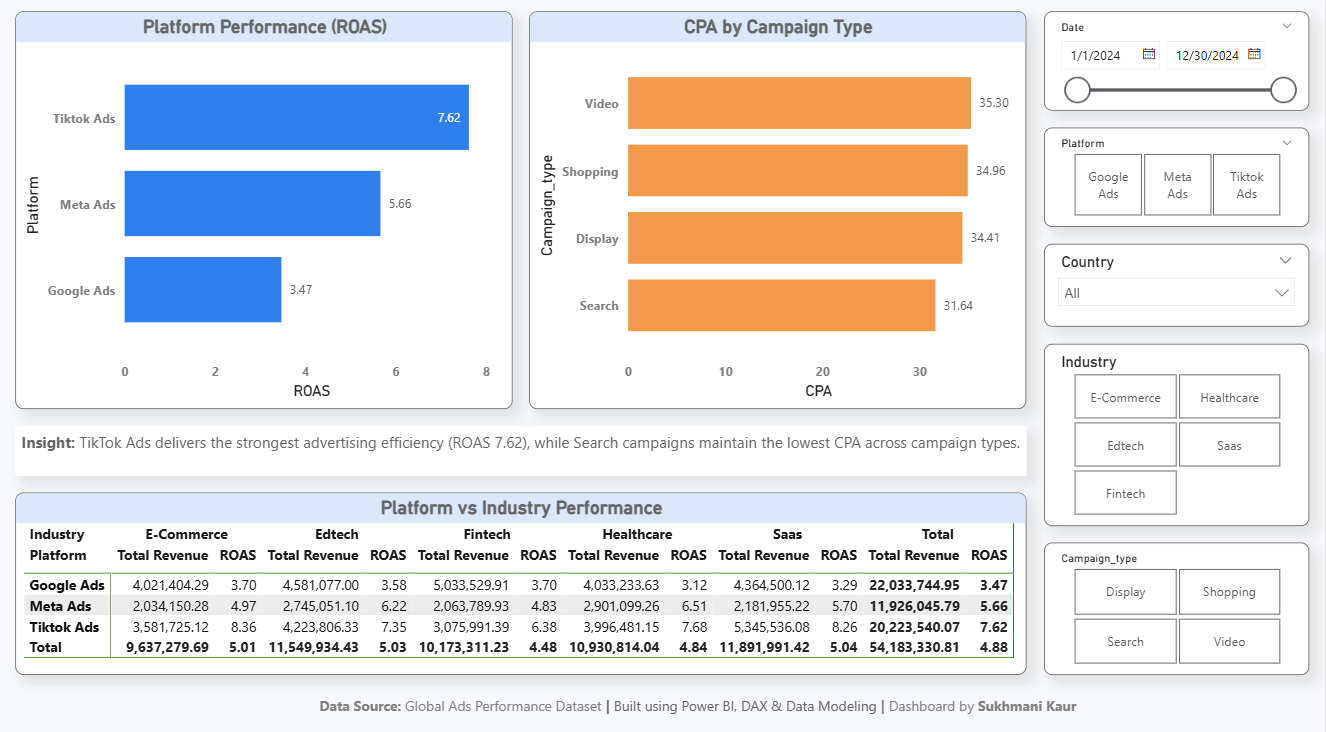

Layout of this report page (visuals, bound fields, positions):
{"tool":"powerbi","page":{"name":"Platform & Campaign Analysis","canvas":[1280,720],"ordinal":1},"visuals":[{"type":"clusteredBarChart","title":"Platform Performance (ROAS)","fields":{"Category":["dim_platform.Platform"],"Y":["Fact_Ads_Performance.ROAS"]},"box":[16,16,480,384],"z":0},{"type":"clusteredBarChart","title":"CPA by Campaign Type","fields":{"Category":["dim_campaign.Campaign_type"],"Y":["Fact_Ads_Performance.CPA_calculated"]},"box":[512,16,480,384],"z":1000},{"type":"pivotTable","title":"Platform vs Industry Performance","fields":{"Rows":["dim_platform.Platform"],"Columns":["dim_industry.Industry"],"Values":["Fact_Ads_Performance.Total Revenue","Fact_Ads_Performance.ROAS"]},"box":[16,480,976,176],"z":2000},{"type":"slicer","fields":{"Values":["dim_campaign.Campaign_type"]},"box":[1008,528,256,128],"z":3000},{"type":"slicer","fields":{"Values":["dim_industry.Industry"]},"box":[1008,336,256,176],"z":4000},{"type":"slicer","fields":{"Values":["dim_country.Country"]},"box":[1008,240,256,80],"z":5000},{"type":"slicer","fields":{"Values":["dim_platform.Platform"]},"box":[1008,128,256,96],"z":6000},{"type":"slicer","fields":{"Values":["dim_date.Date"]},"box":[1008,16,256,96],"z":7000},{"type":"textbox","box":[16,672,1248,32],"z":8000},{"type":"textbox","box":[16,416,976,48],"z":9000}]}

Visuals, with their boxes in screenshot pixels (x1, y1, x2, y2), scaled from the page's 1280x720 canvas onto the 1326x732 screenshot:
"Platform Performance (ROAS)" clusteredBarChart: crop(17, 16, 514, 407)
"CPA by Campaign Type" clusteredBarChart: crop(530, 16, 1028, 407)
"Platform vs Industry Performance" pivotTable: crop(17, 488, 1028, 667)
slicer - dim_campaign.Campaign_type: crop(1044, 537, 1309, 667)
slicer - dim_industry.Industry: crop(1044, 342, 1309, 521)
slicer - dim_country.Country: crop(1044, 244, 1309, 325)
slicer - dim_platform.Platform: crop(1044, 130, 1309, 228)
slicer - dim_date.Date: crop(1044, 16, 1309, 114)
textbox: crop(17, 683, 1309, 716)
textbox: crop(17, 423, 1028, 472)
